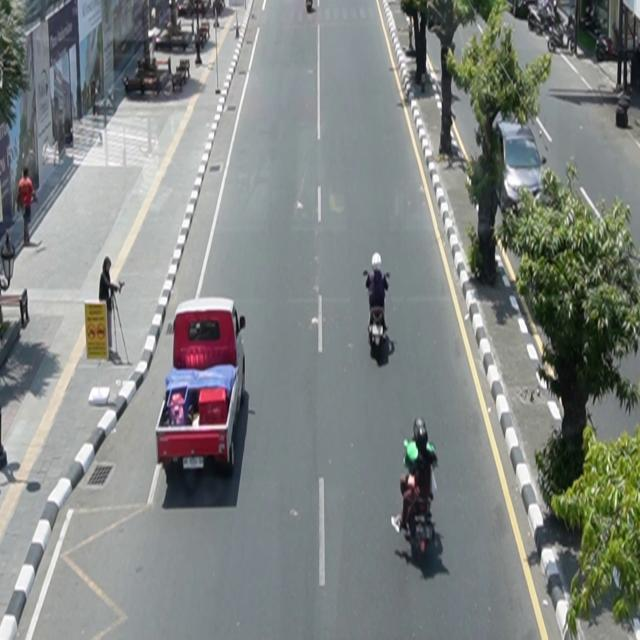car: (493, 118, 547, 217)
truck: (156, 297, 247, 476)
